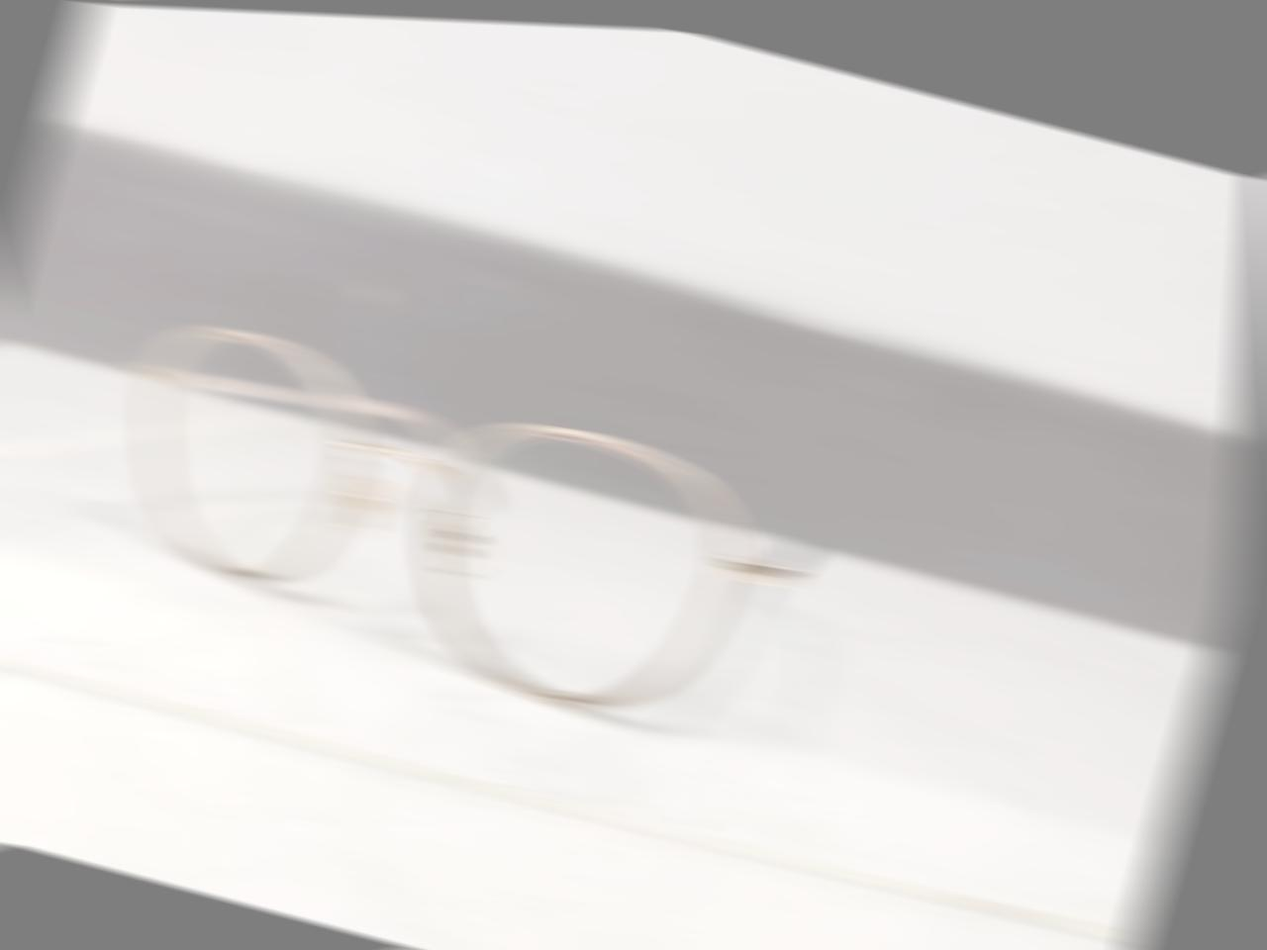glasses: (47, 289, 881, 781)
